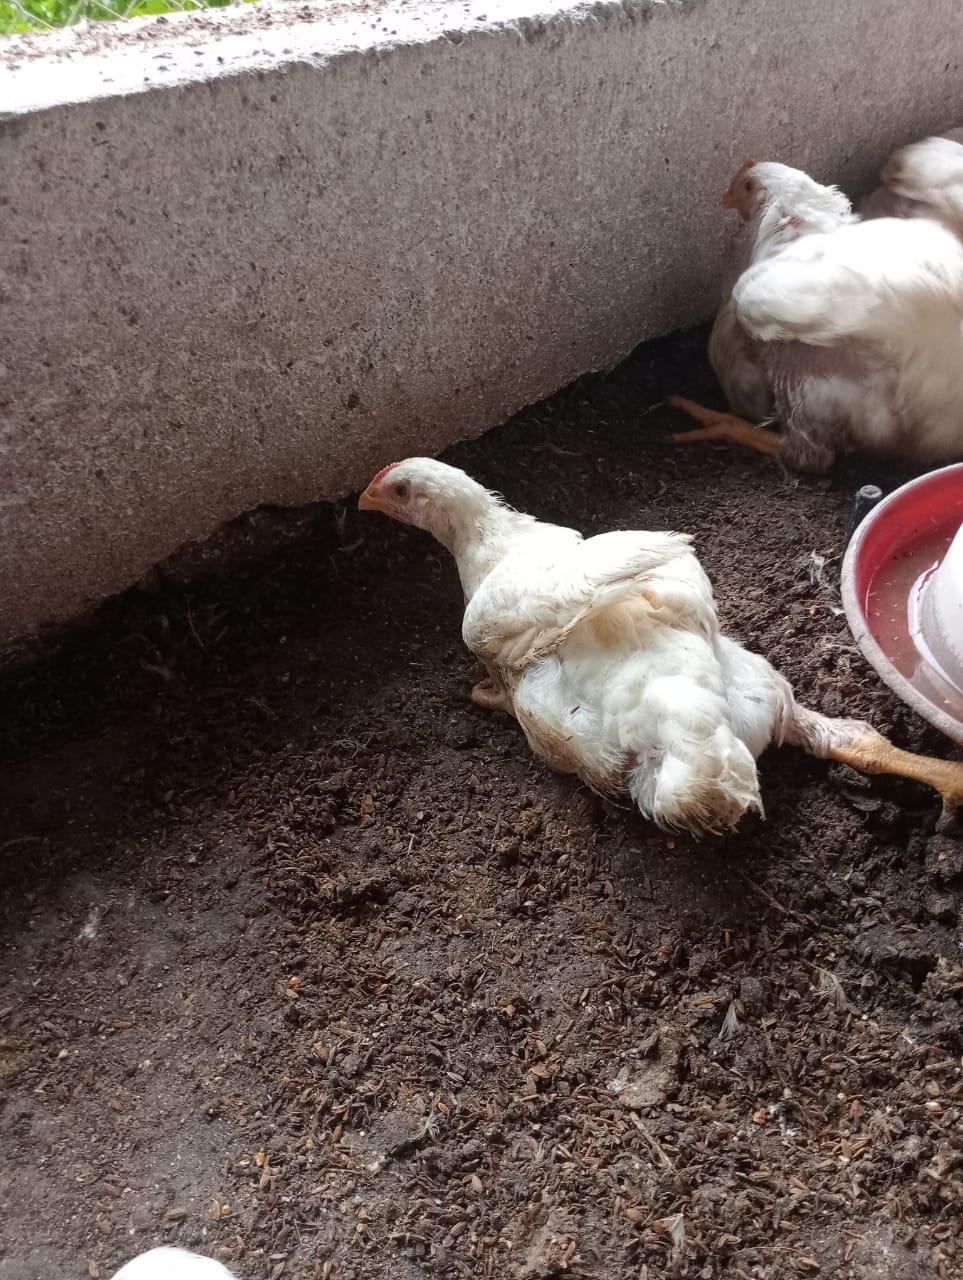Unhealthy: (350, 425, 956, 879)
